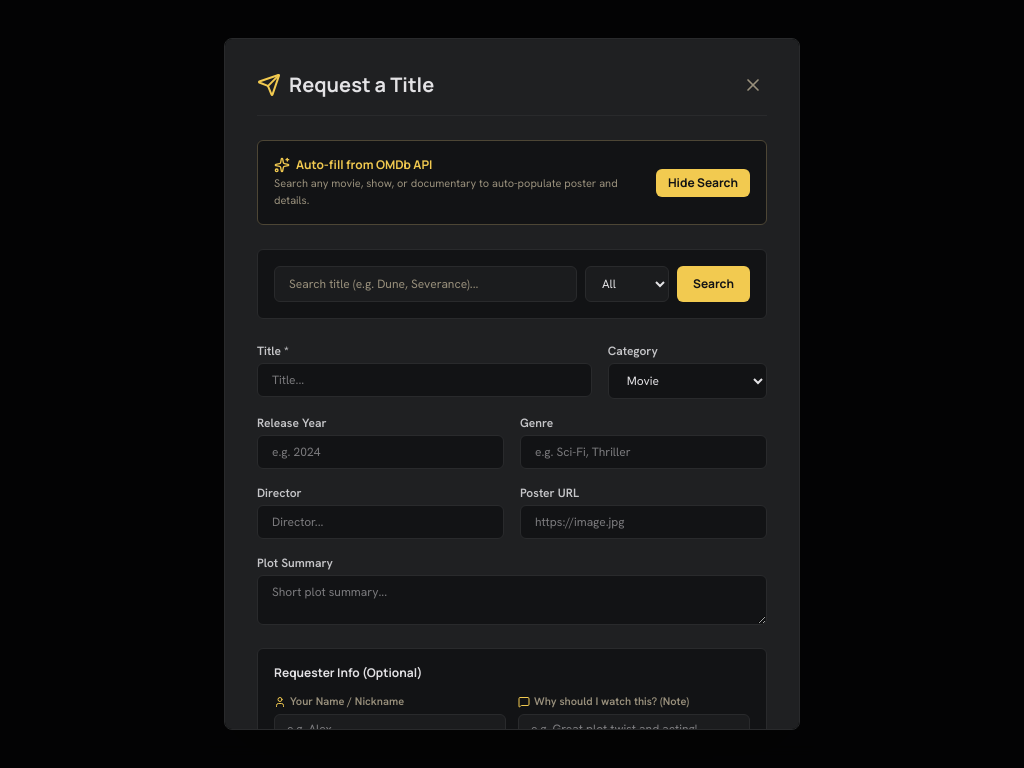
Test case: RequestMediaModal › displays fallback error message when error is empty
Type "Dune" into the field with placeholder "Title..." at coordinates (424, 380), box top-left (257, 363), bottom-right (592, 397)
(page scrolled)
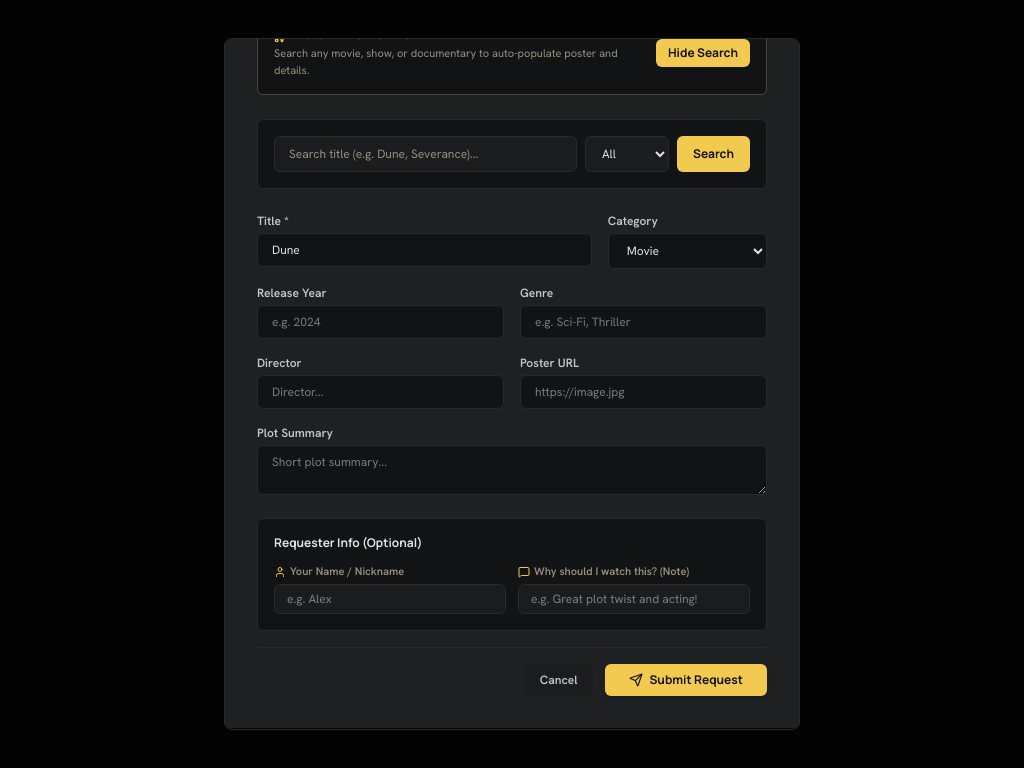
Submit the form named "submit request", box top-left (257, 213), bottom-right (767, 696)
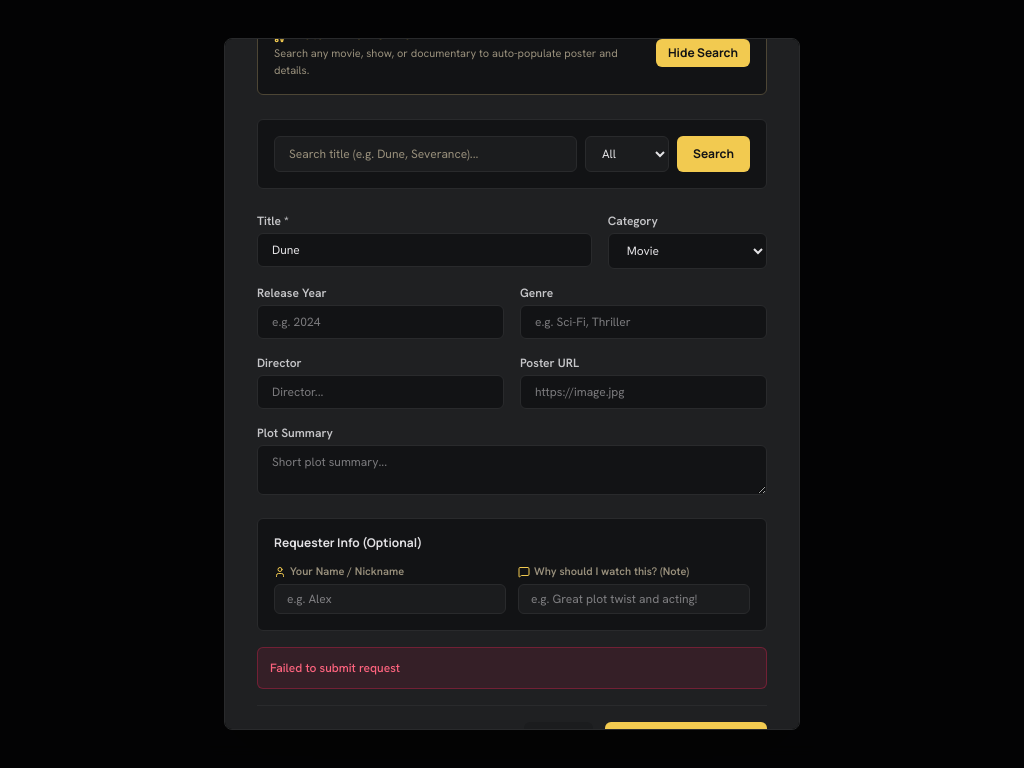
expect the text "Failed to submit request" is shown: met, box top-left (257, 647), bottom-right (767, 689)
